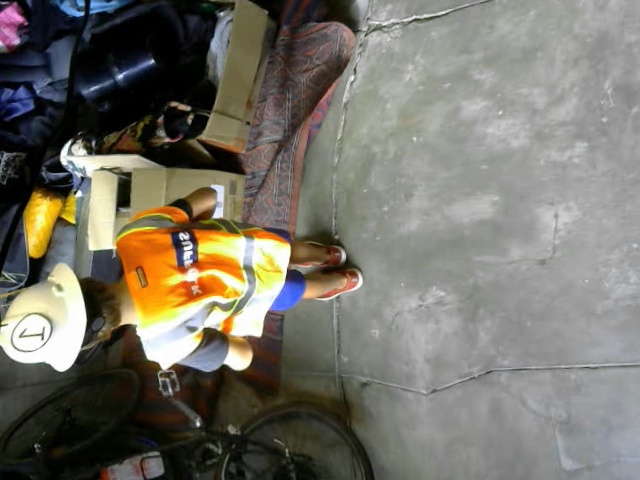one: (8, 310, 52, 355)
